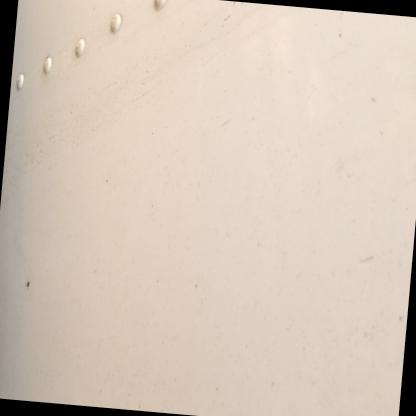Nocrack: (0, 5, 408, 415)
